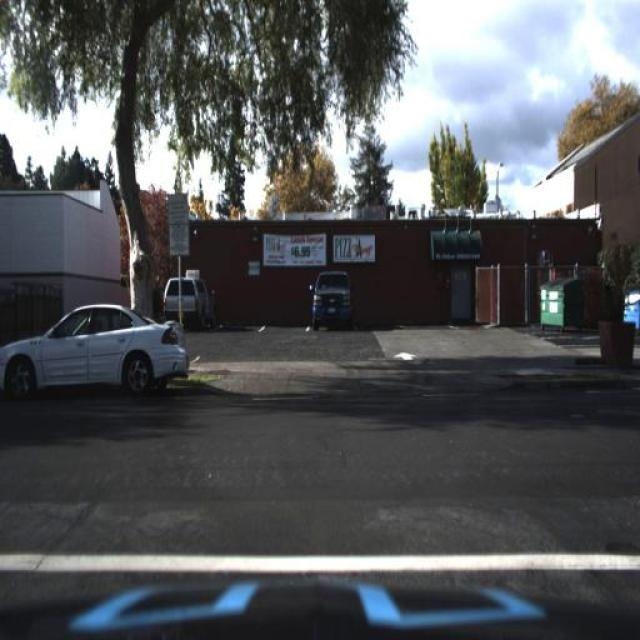car: (0, 297, 192, 406), (309, 264, 356, 328), (159, 274, 209, 324)
